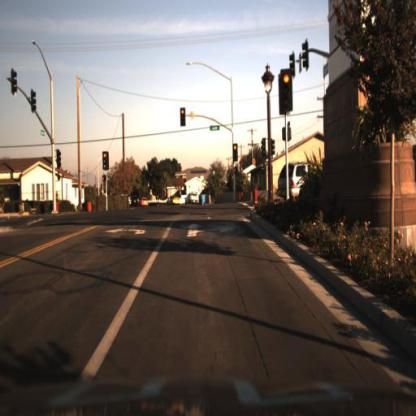car: (281, 159, 325, 208), (167, 193, 183, 209), (184, 191, 200, 207), (167, 194, 182, 210), (138, 193, 151, 211), (129, 193, 141, 211), (141, 197, 151, 213)
trafficLight-Red: (278, 67, 298, 118), (279, 70, 293, 86), (103, 150, 111, 176), (180, 107, 188, 132), (232, 143, 240, 168), (99, 149, 111, 161), (231, 142, 241, 152), (178, 106, 186, 118)
